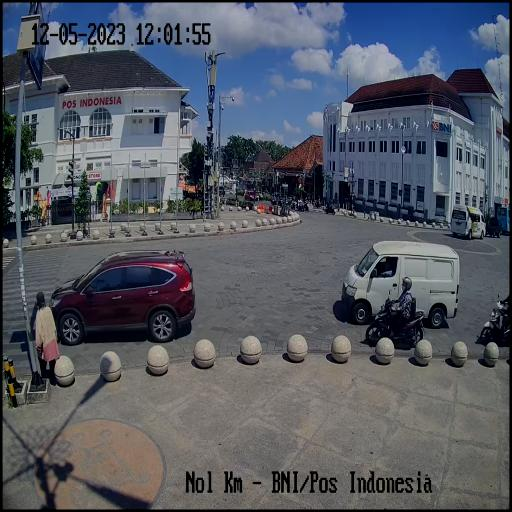mobil: (50, 254, 195, 344), (342, 240, 460, 328)
motor: (365, 294, 426, 350)
